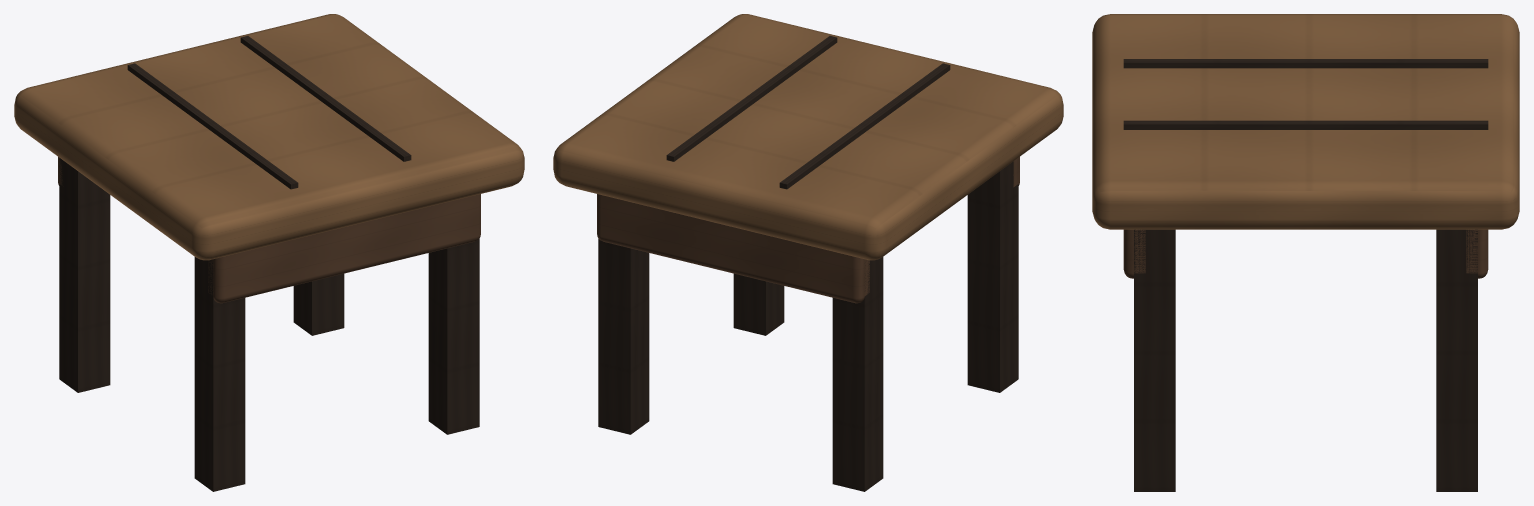
File: sk-table-small.glb
3 renders of one model, left to right at view 1: azimuth 30°, elevation 25°; view 2: azimuth 150°, elevation 25°; view 3: azimuth 270°, elevation 25°, orthographic. The views are drawn at different scales.
Parts seen in each view (by area): view 1: table-small-top, interior:table_small-static-table-small-legs, interior:table_small-static-table-small-wood; view 2: table-small-top, interior:table_small-static-table-small-legs, interior:table_small-static-table-small-wood; view 3: table-small-top, interior:table_small-static-table-small-legs, interior:table_small-static-table-small-wood.
Boxes of the visible parts, box(x1,y1,x2,y2) form: table-small-top: box(14, 14, 524, 260); interior:table_small-static-table-small-legs: box(59, 36, 479, 491); interior:table_small-static-table-small-wood: box(58, 157, 480, 303); table-small-top: box(553, 14, 1063, 260); interior:table_small-static-table-small-legs: box(598, 36, 1018, 491); interior:table_small-static-table-small-wood: box(597, 157, 1019, 303); table-small-top: box(1092, 14, 1519, 229); interior:table_small-static-table-small-legs: box(1123, 59, 1488, 491); interior:table_small-static-table-small-wood: box(1123, 229, 1488, 278).
Size of the model in its own units: 0.82 by 0.694 by 0.82.
3 materials, 3 textured.
